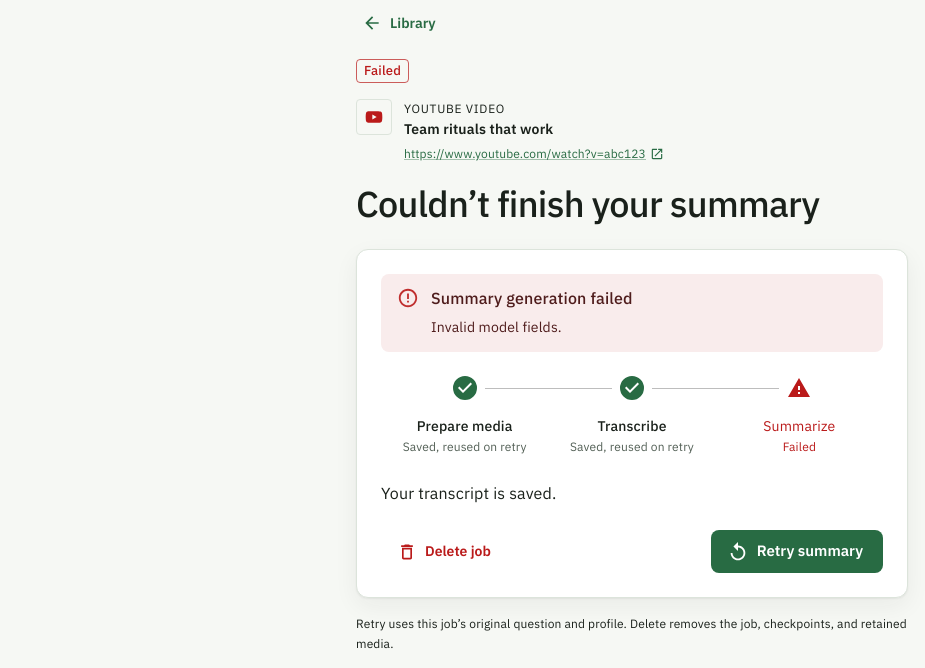
job recovery and loading › retries the failed step and switches to the loading state for the same job
Click the button "Retry summary" at (797, 552), box top-left (711, 530), bottom-right (883, 573)
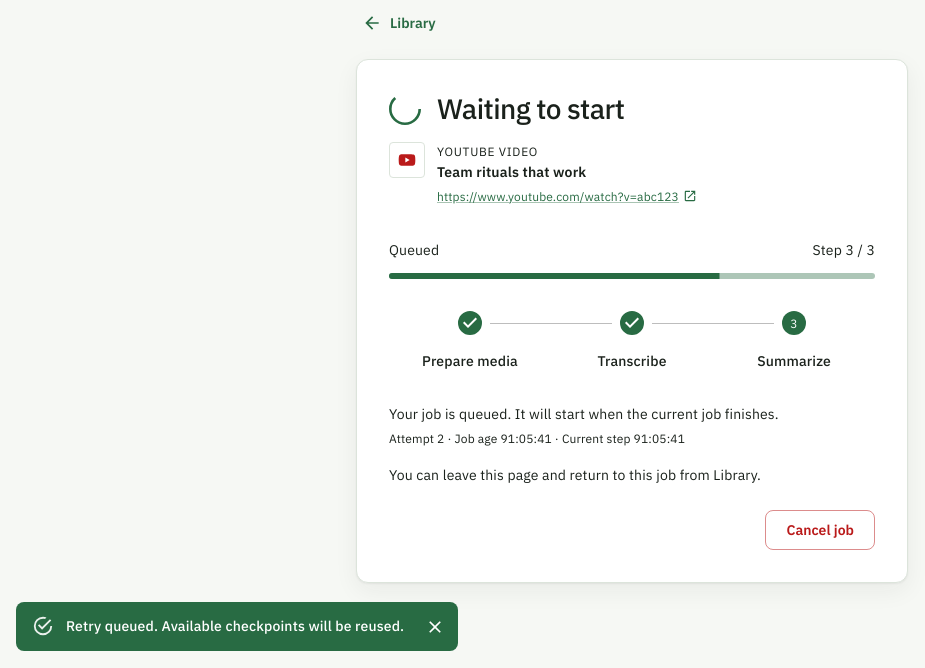
Result: the heading "Waiting to start" is shown at top-left (437, 92), bottom-right (624, 126)
